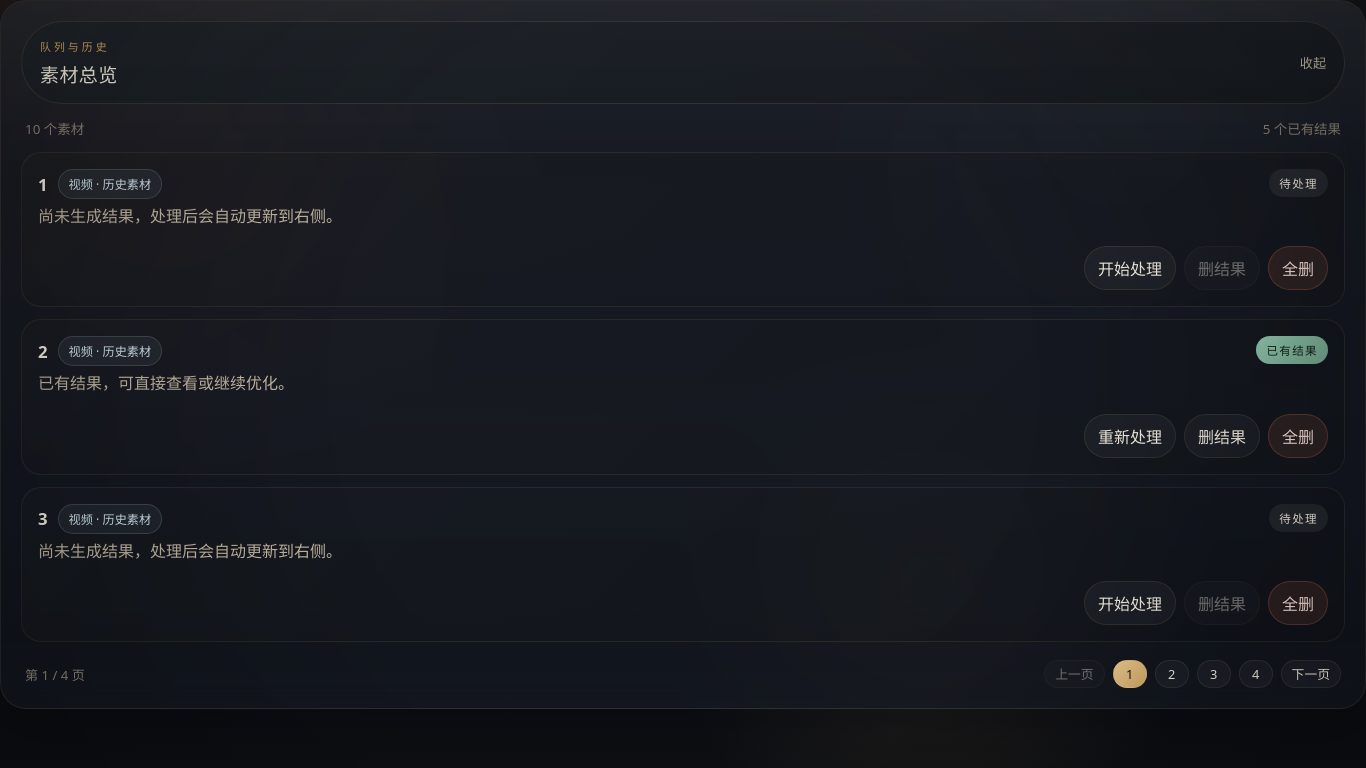
Test case: paginates the expanded queue history to three items per page
The width and height of the screenshot is (1366, 768).
Expected: the text "第 1 / 4 页" is shown, [25,665,85,684]
Expected: the button "1" is shown, [21,152,1345,307]
Click the button "下一页".
click(1311, 674)  # box [1281,660,1341,688]
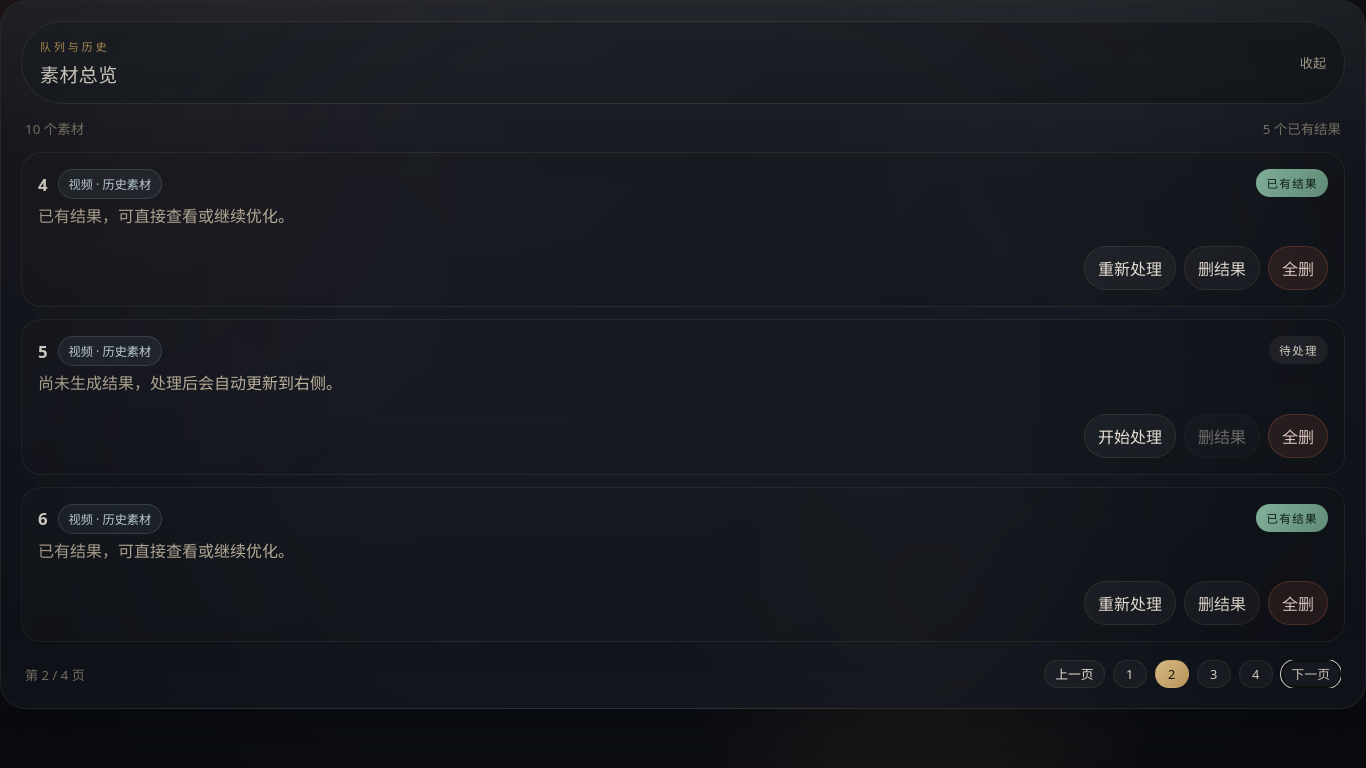
Now the text "第 2 / 4 页" is shown, box [25,665,85,684]
Now the text "4" is shown, box [38,172,48,196]
Now the text "5" is shown, box [38,340,48,363]
